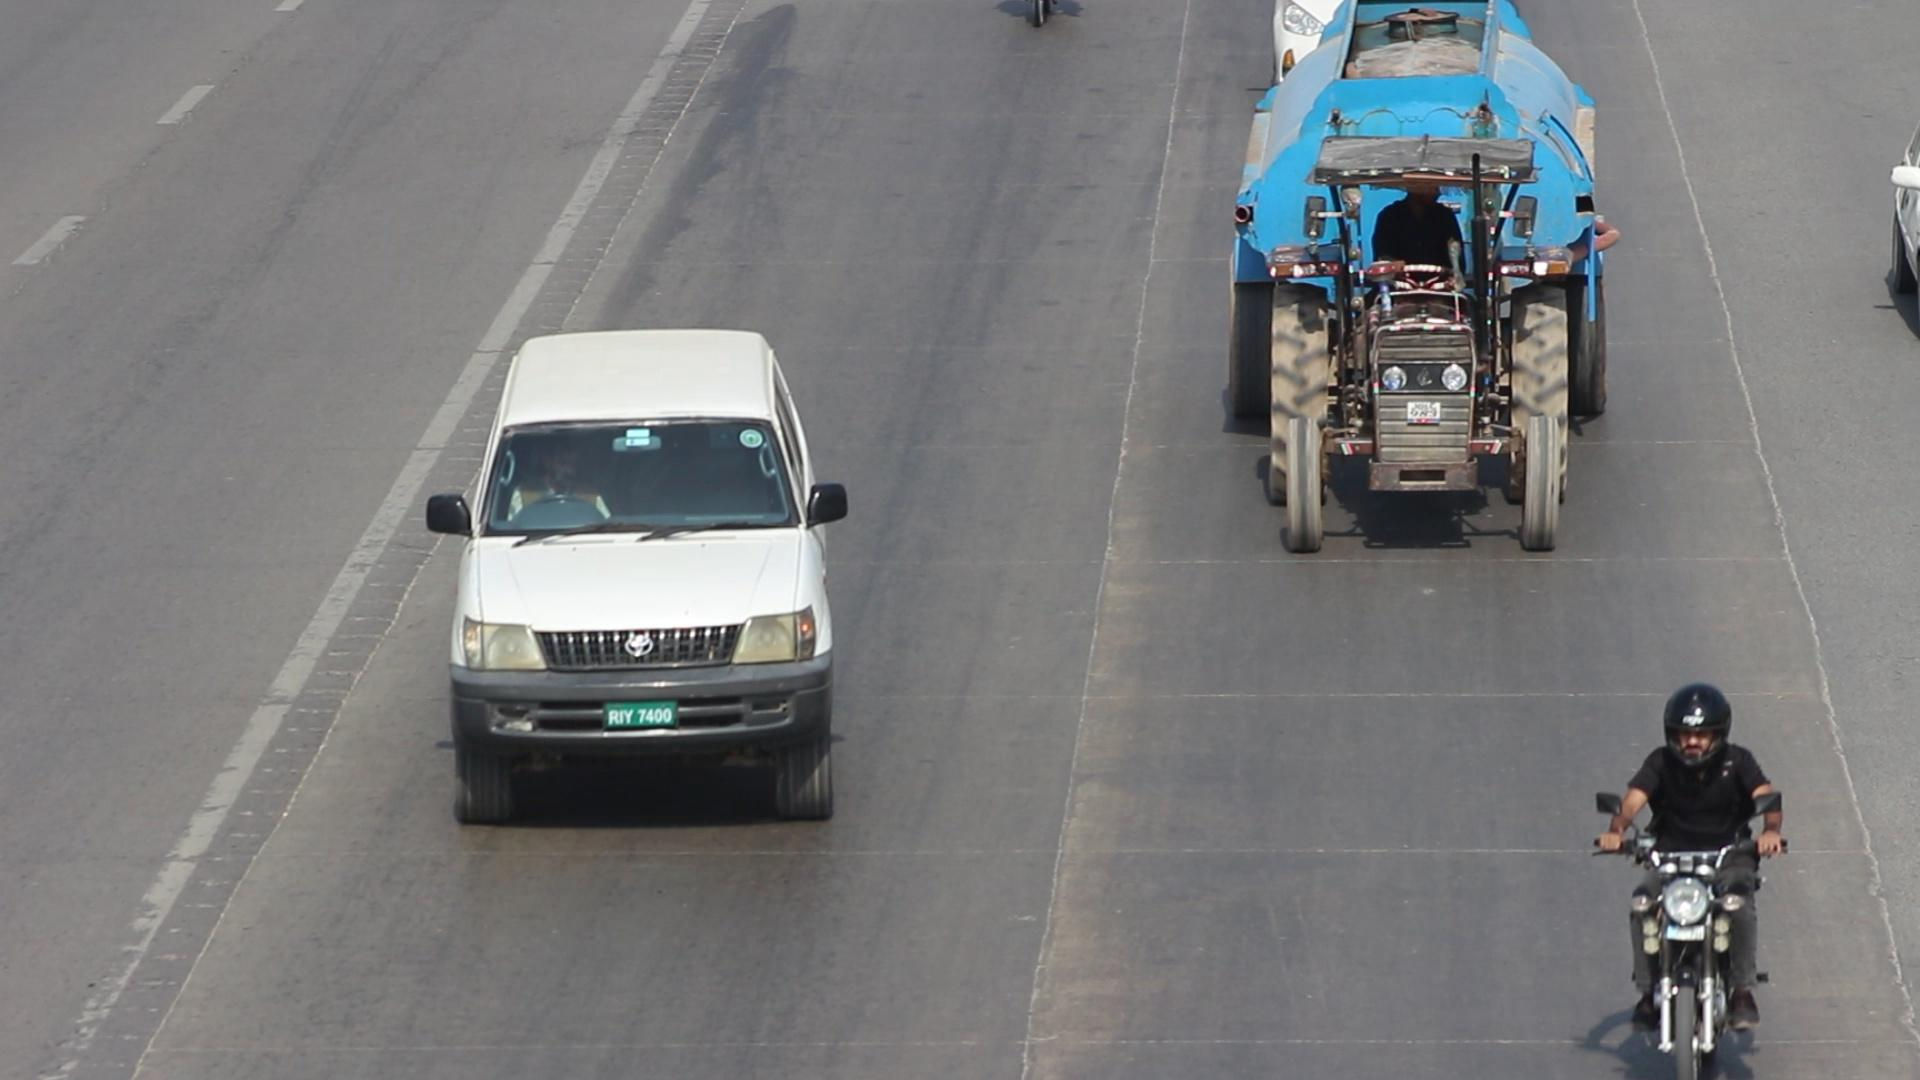windshield: (488, 419, 804, 537)
